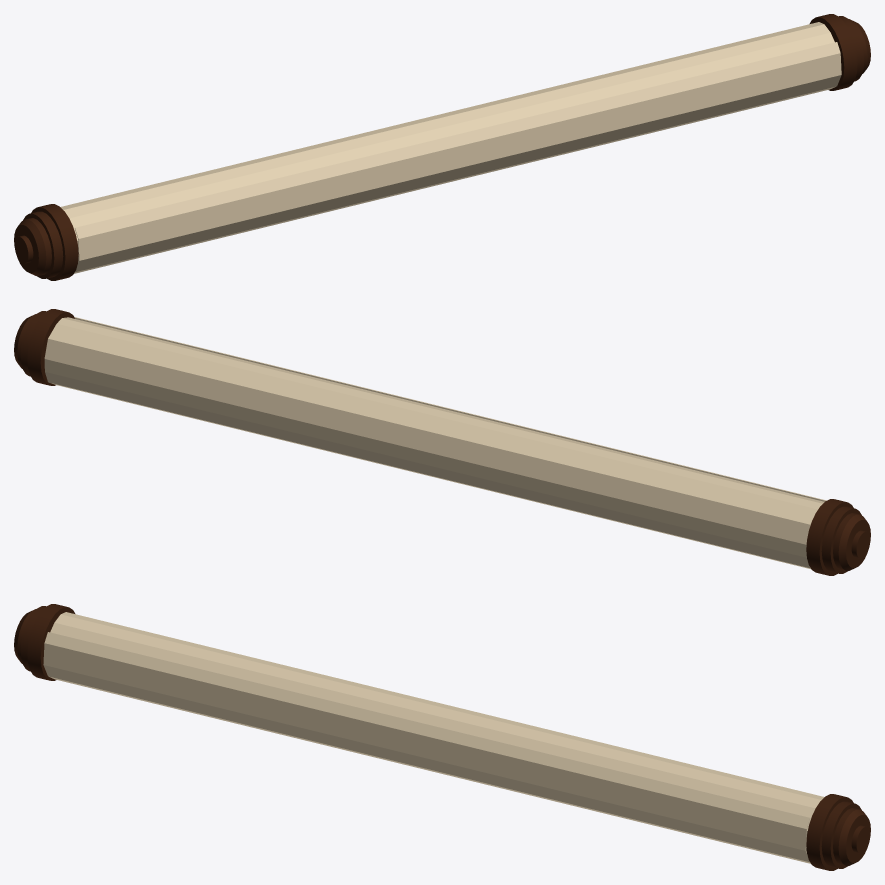
The model's file is DividedScroll.glb.
The picture shows the model from 3 angles, top to bottom: view 1: azimuth 30°, elevation 25°; view 2: azimuth 150°, elevation 25°; view 3: azimuth 330°, elevation 25°; orthographic projection.
Visible parts, largest first — view 1: Paper2, Paper3, Paper4, Paper5, Paper1, Spindle1, Spindle5; view 2: Paper3, Paper4, Paper2, Paper5, Paper1, Spindle1, Spindle5; view 3: Paper4, Paper3, Paper2, Paper5, Paper1, Spindle5, Spindle1.
Part boxes in pixels (box(x1,y1,x2,y2)): Paper2: box(209, 133, 383, 238); Paper3: box(362, 96, 536, 200); Paper4: box(515, 59, 689, 163); Paper5: box(668, 22, 841, 125); Paper1: box(60, 171, 230, 273); Spindle1: box(14, 204, 78, 280); Spindle5: box(809, 14, 870, 90); Paper3: box(349, 391, 532, 496); Paper4: box(196, 354, 379, 458); Paper2: box(502, 429, 685, 533); Paper5: box(44, 317, 226, 421); Paper1: box(655, 466, 826, 568); Spindle1: box(806, 499, 870, 575); Spindle5: box(14, 309, 74, 385); Paper4: box(501, 723, 675, 828); Paper3: box(348, 686, 522, 790); Paper2: box(195, 649, 369, 753); Paper5: box(654, 761, 824, 863); Paper1: box(43, 612, 216, 715); Spindle5: box(806, 794, 870, 870); Spindle1: box(14, 604, 75, 680).
Bounding box in the file's own units: 2.11 × 0.1647 × 0.1647.
